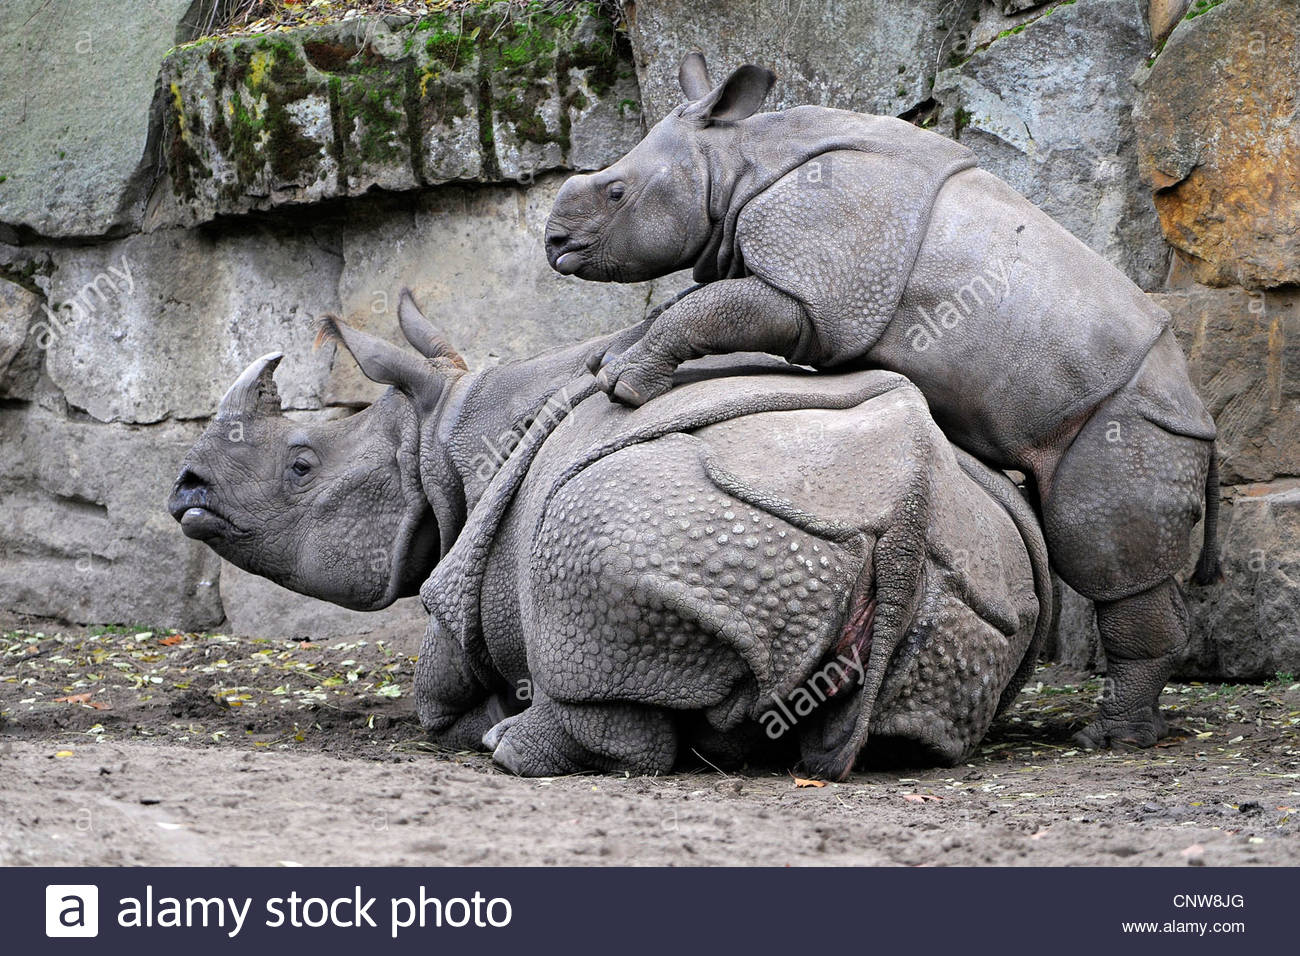rhinoceros: (172, 271, 1063, 804), (529, 63, 1245, 689)
